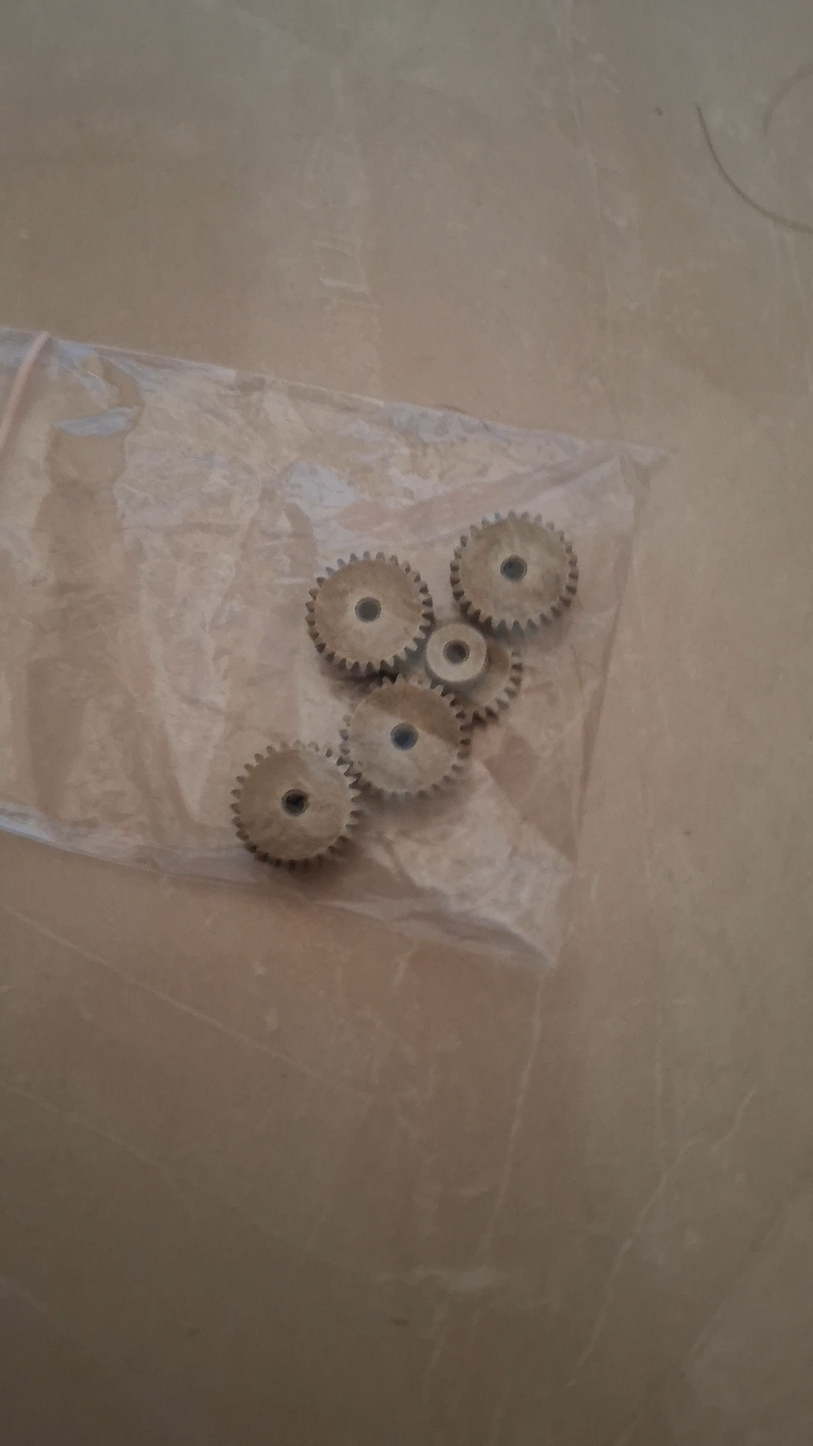spur gear: (232, 742, 359, 868), (307, 553, 432, 676), (342, 677, 470, 797), (451, 513, 577, 631), (459, 637, 522, 722)
